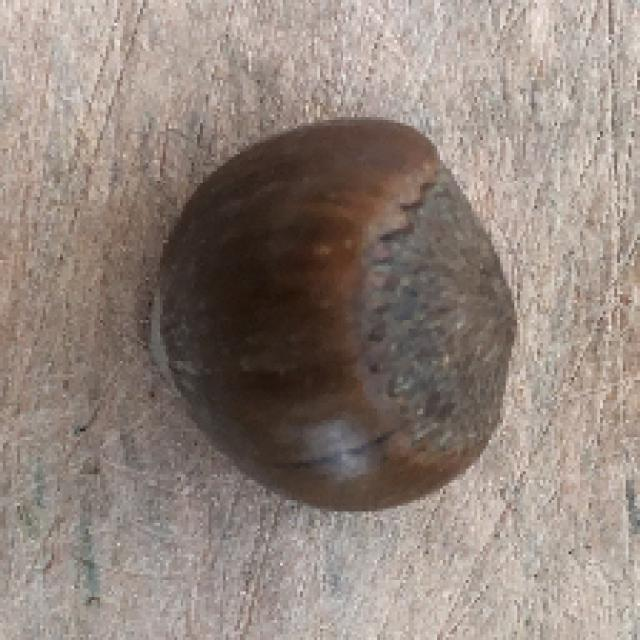damagedHazelnut: (145, 108, 516, 522)
